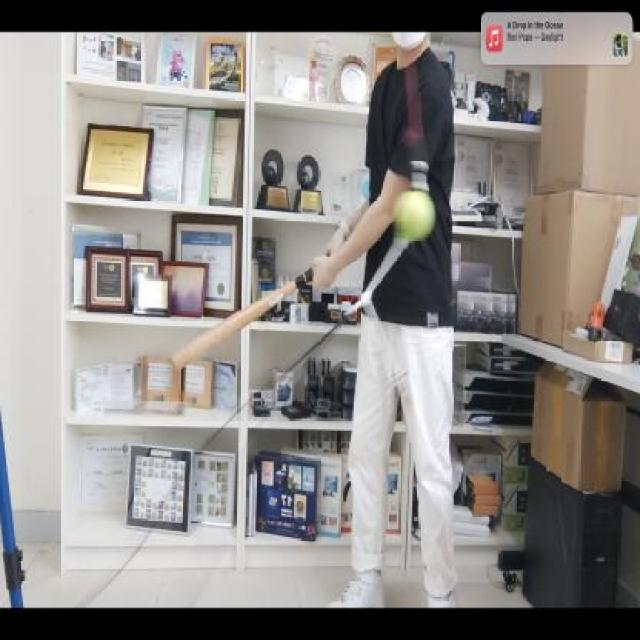baseball: (396, 187, 438, 244)
